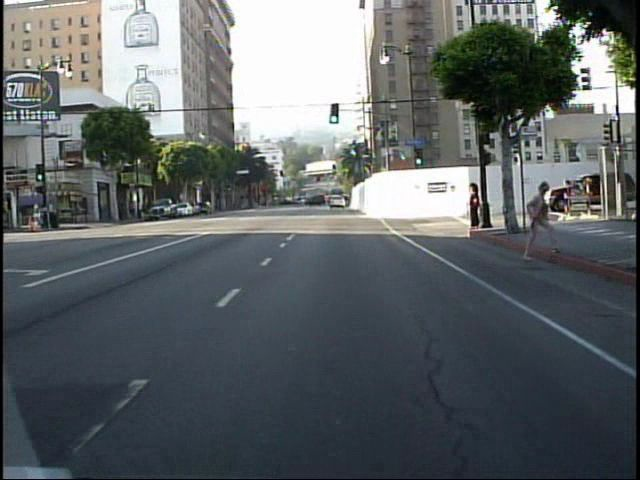person: (521, 176, 555, 269), (467, 181, 482, 232)
